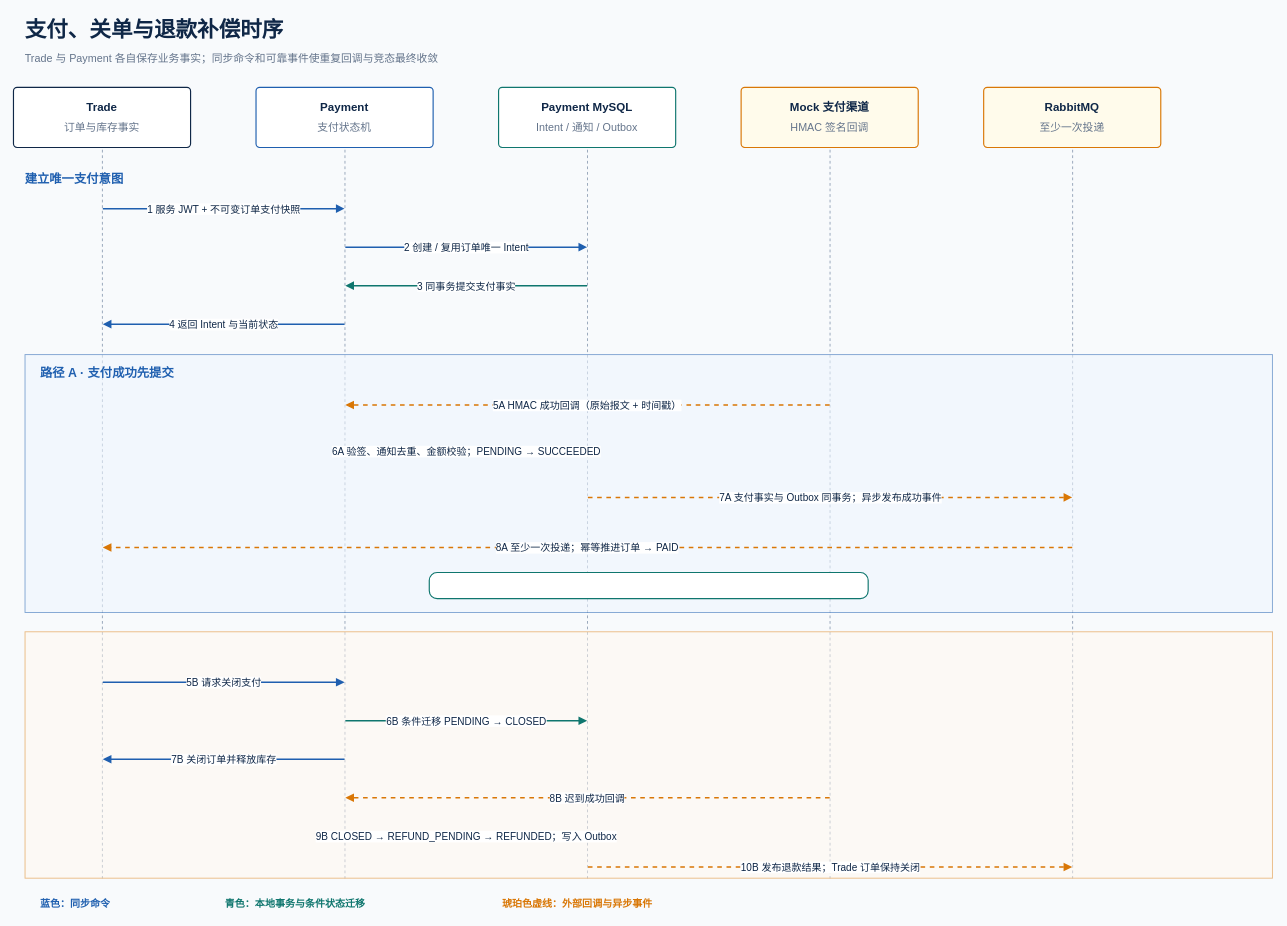
The diagram is 1287 pixels wide and 926 high, and some of its shapes have lost their labels. Here are the shapes that lost their labels. From the top down, the centre of each, then its label:
At point 648,585: "重复回调与重复消息不产生第二次状态迁移".
At point 648,754: "路径 B · 到期关单先提交，随后收到迟到成功".
